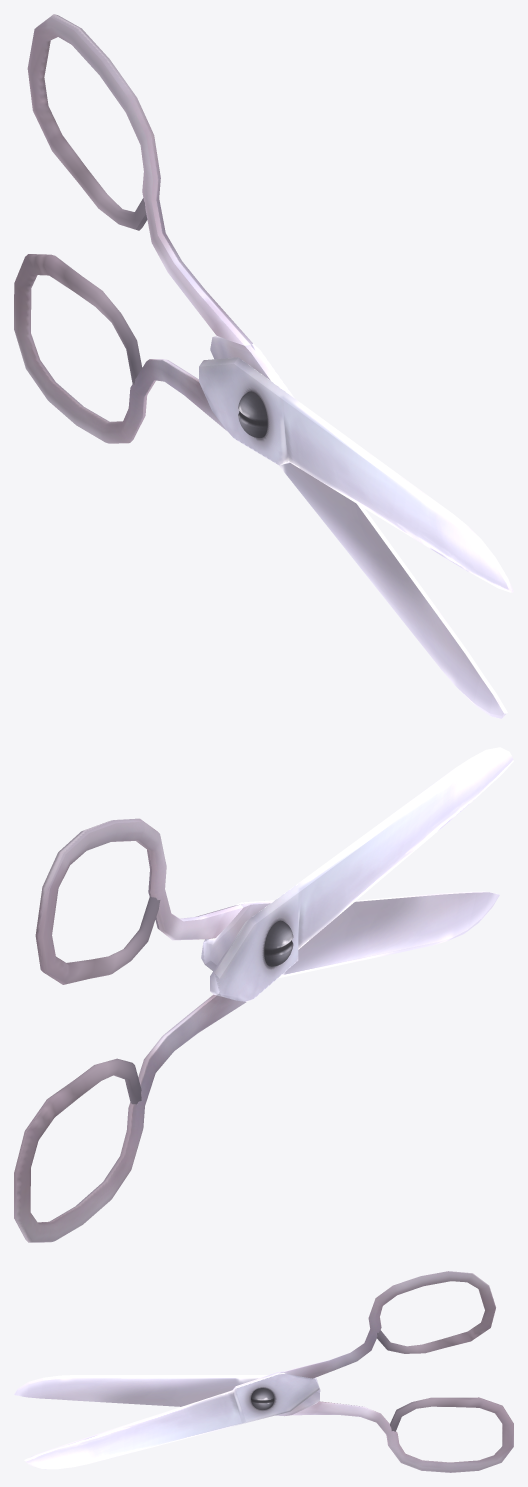
Rendered from k_scissors.glb.
3 renders of one model, top to bottom at view 1: azimuth 30°, elevation 25°; view 2: azimuth 150°, elevation 25°; view 3: azimuth 270°, elevation 25°, orthographic. The views are drawn at different scales.
Visible parts, largest first — view 1: Object_2; view 2: Object_2; view 3: Object_2.
Boxes of the visible parts, x1,y1,x2,y2 form: Object_2: (14,14,513,718); Object_2: (14,747,513,1242); Object_2: (14,1271,513,1472).
Bounding box in the file's own units: 0.1278 × 1.02 × 2.3.
Materials: 1 (1 with a texture image).
